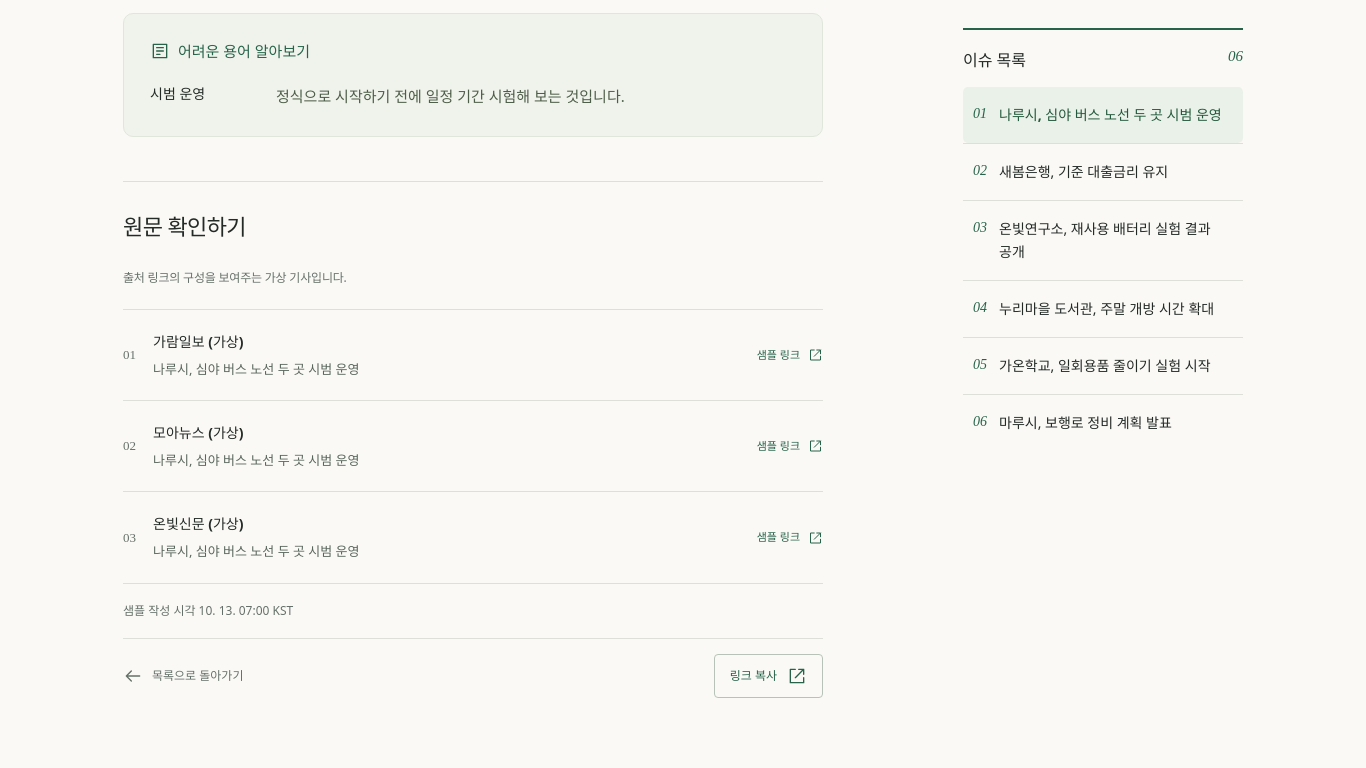
Scenario: share link can be copied
(page scrolled)
Click the button "링크 복사": (768, 676) [714,654,823,698]
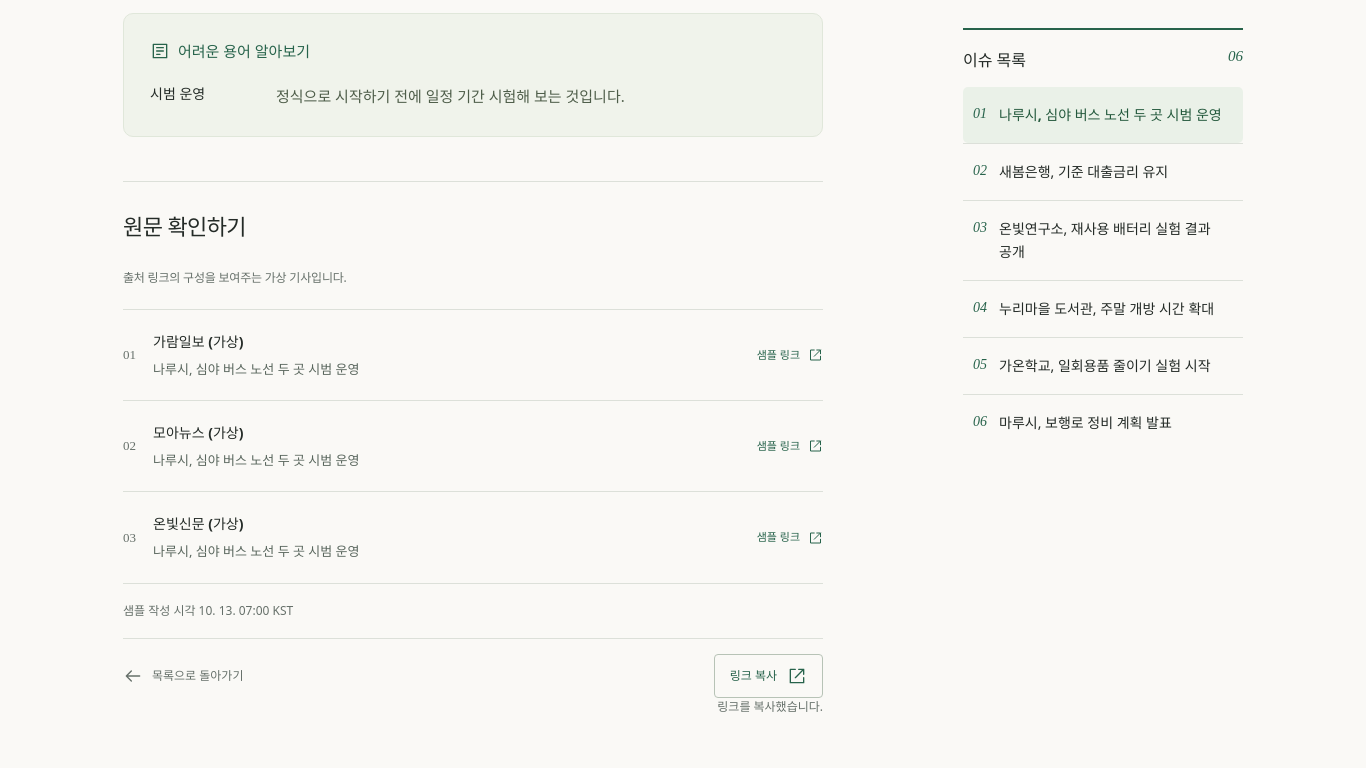
Expected: the text "링크를 복사했습니다." is shown, [717,698,823,715]
